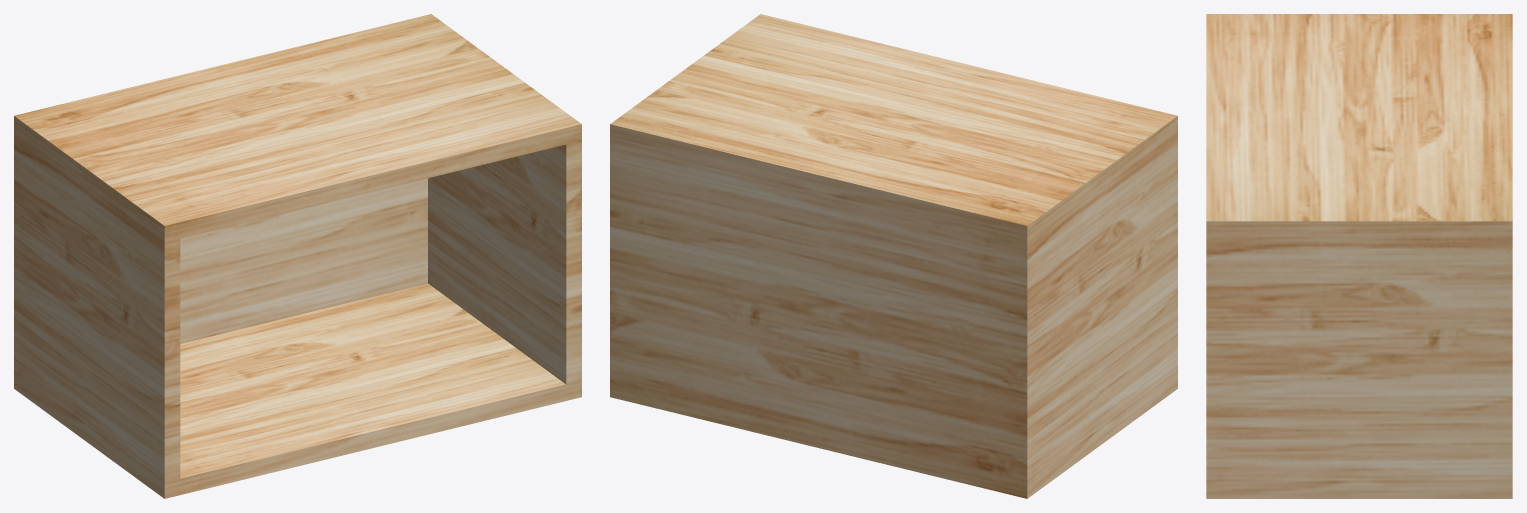
Rendered from Cubby_S.fbx.
3 views of the same model, side by side, from view 1: azimuth 30°, elevation 25°; view 2: azimuth 150°, elevation 25°; view 3: azimuth 270°, elevation 25° (orthographic).
Visible parts, largest first — view 1: Cubby_S; view 2: Cubby_S; view 3: Cubby_S.
Boxes of the visible parts, bbox=[...] form: Cubby_S: bbox=[14, 14, 581, 498]; Cubby_S: bbox=[610, 14, 1177, 498]; Cubby_S: bbox=[1206, 14, 1512, 498].
Size of the model in its own units: 60.96 by 38.1 by 38.1.
